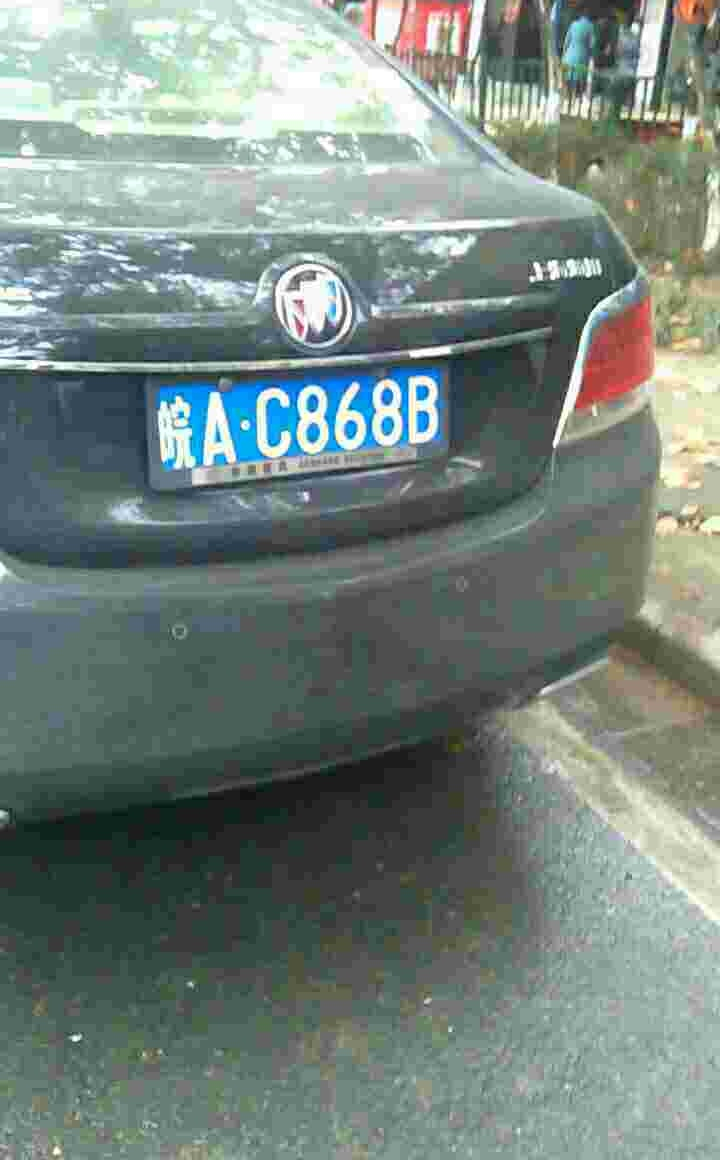license_plate: (155, 367, 457, 471)
